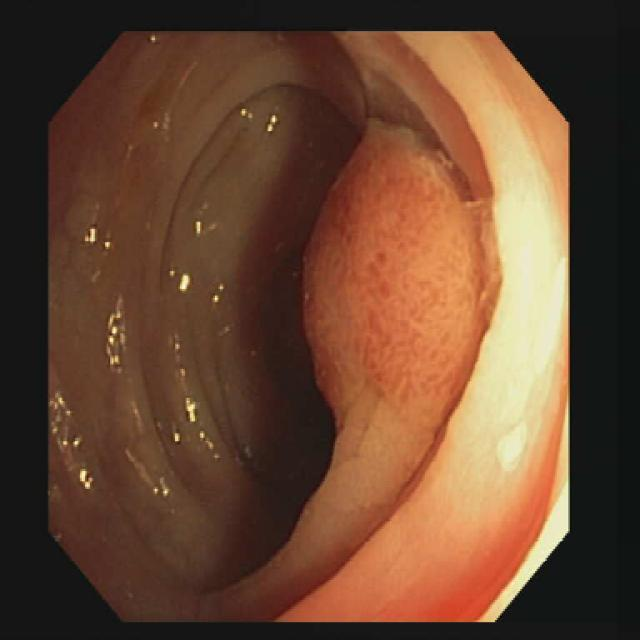tumor: (305, 140, 497, 427)
